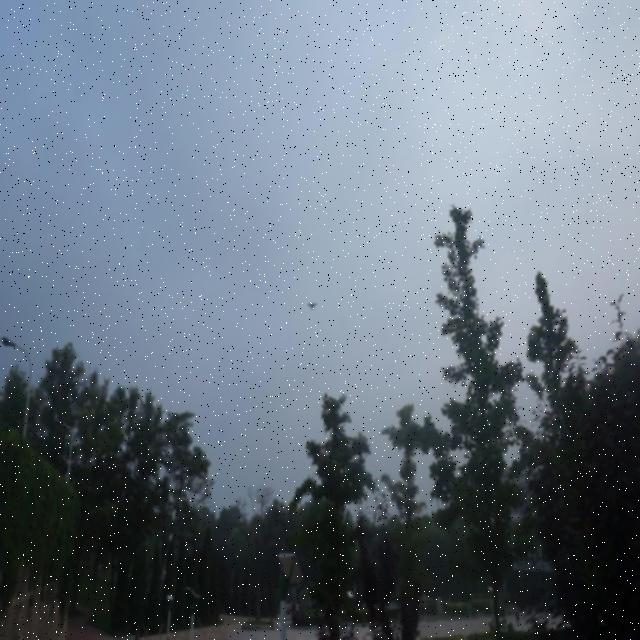UAV: (307, 303, 318, 310)
